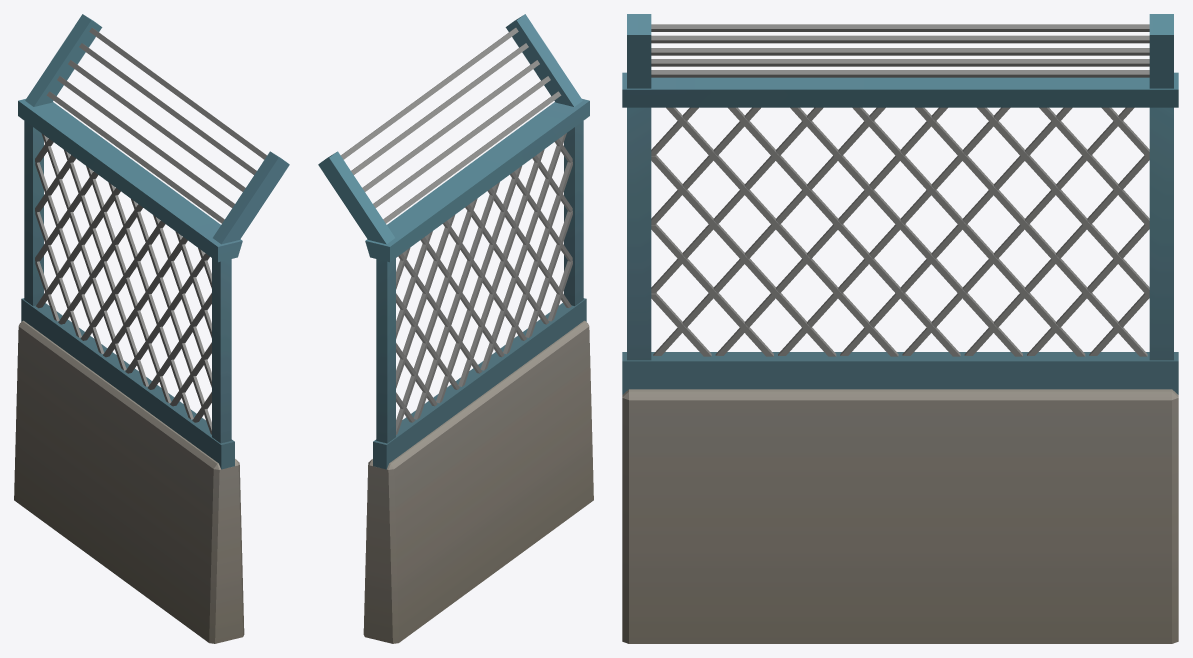
Rendered from Fence_6_2_E.fbx.
3 renders of one model, left to right at view 1: azimuth 30°, elevation 25°; view 2: azimuth 150°, elevation 25°; view 3: azimuth 270°, elevation 25°, orthographic. The views are drawn at different scales.
Visible parts, largest first — view 1: Fence_6_2_E; view 2: Fence_6_2_E; view 3: Fence_6_2_E.
Part boxes in pixels (x1=…): Fence_6_2_E: x1=14, y1=14, x2=289, y2=643; Fence_6_2_E: x1=318, y1=14, x2=593, y2=643; Fence_6_2_E: x1=622, y1=14, x2=1178, y2=643.
Bounding box in the file's own units: 69.53 × 388 × 300.
